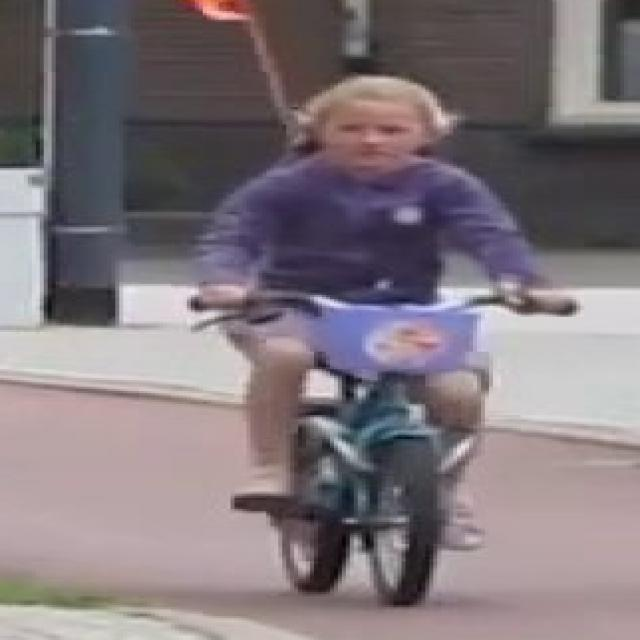car: (170, 266, 589, 612)
